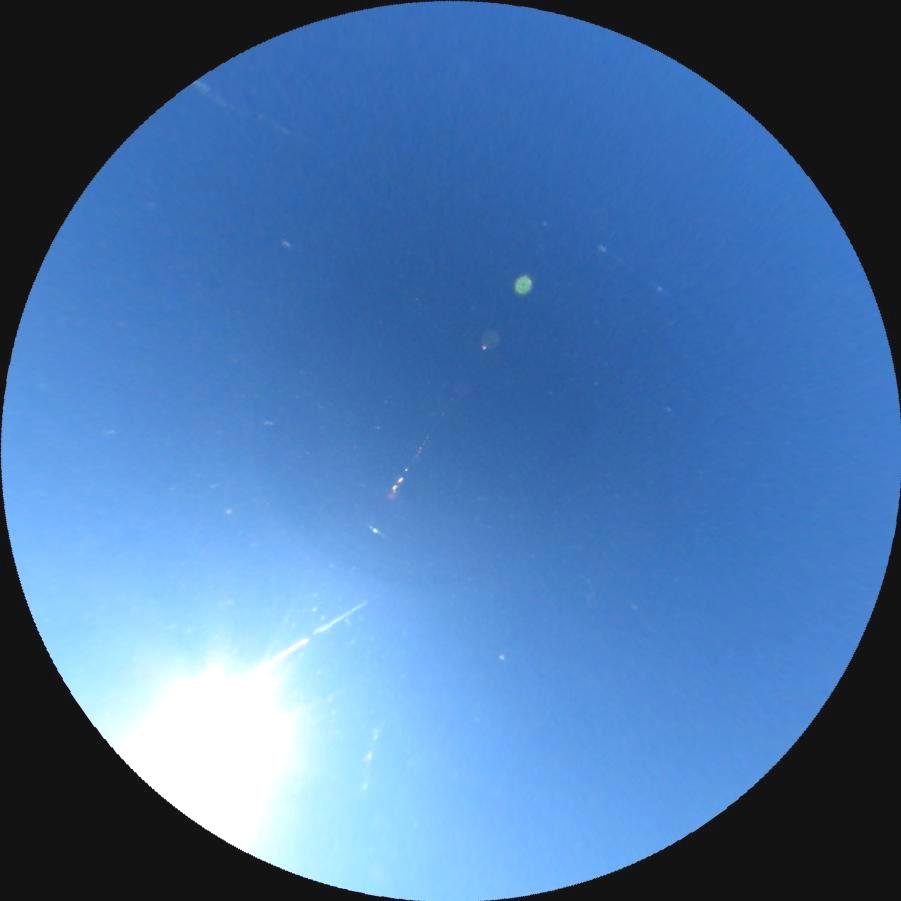contrail young: (467, 519, 493, 529)
parasite: (225, 596, 373, 694)
sun: (119, 660, 308, 849)
unknow: (188, 72, 296, 144)
